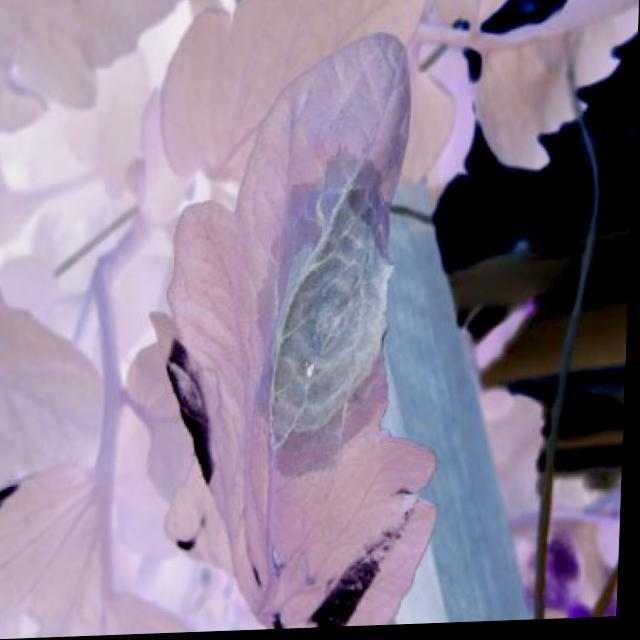Tomato mosaic virus leaf: (126, 13, 458, 632)
